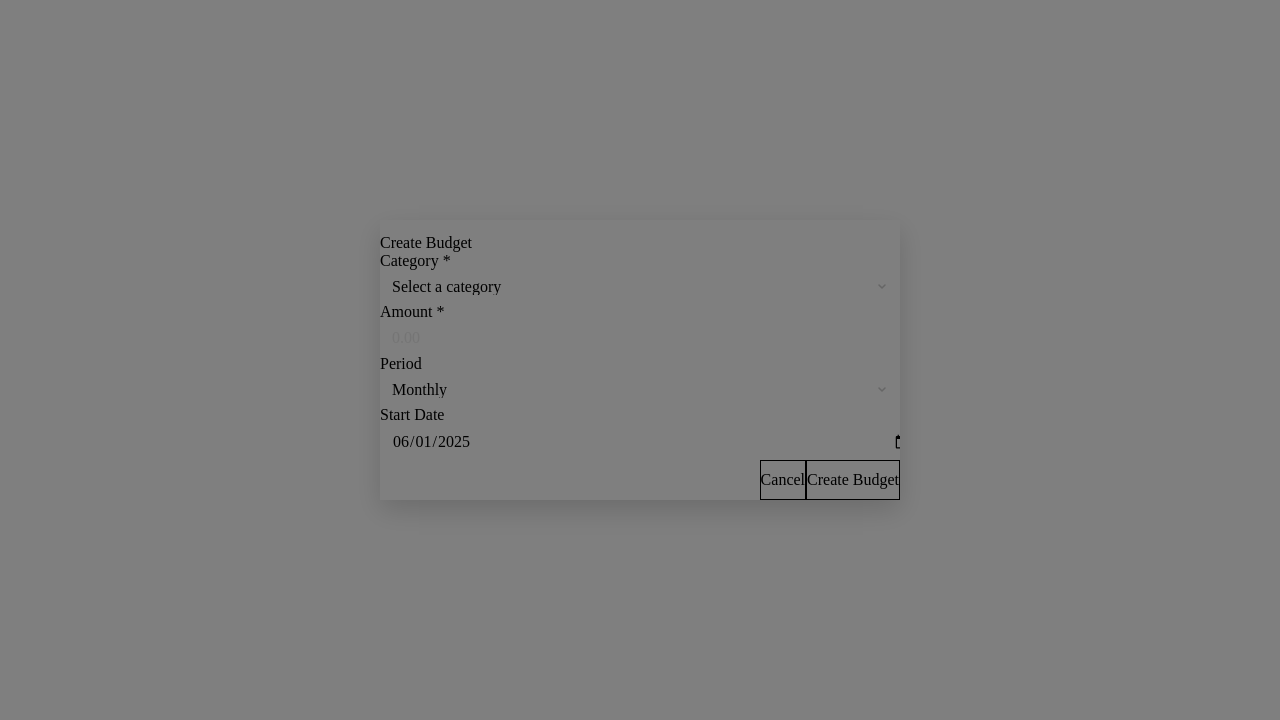
BudgetForm › validates required fields on submit
The width and height of the screenshot is (1280, 720).
Step 1. Click the button "Create Budget" → [853, 480], box [806,460,900,500]
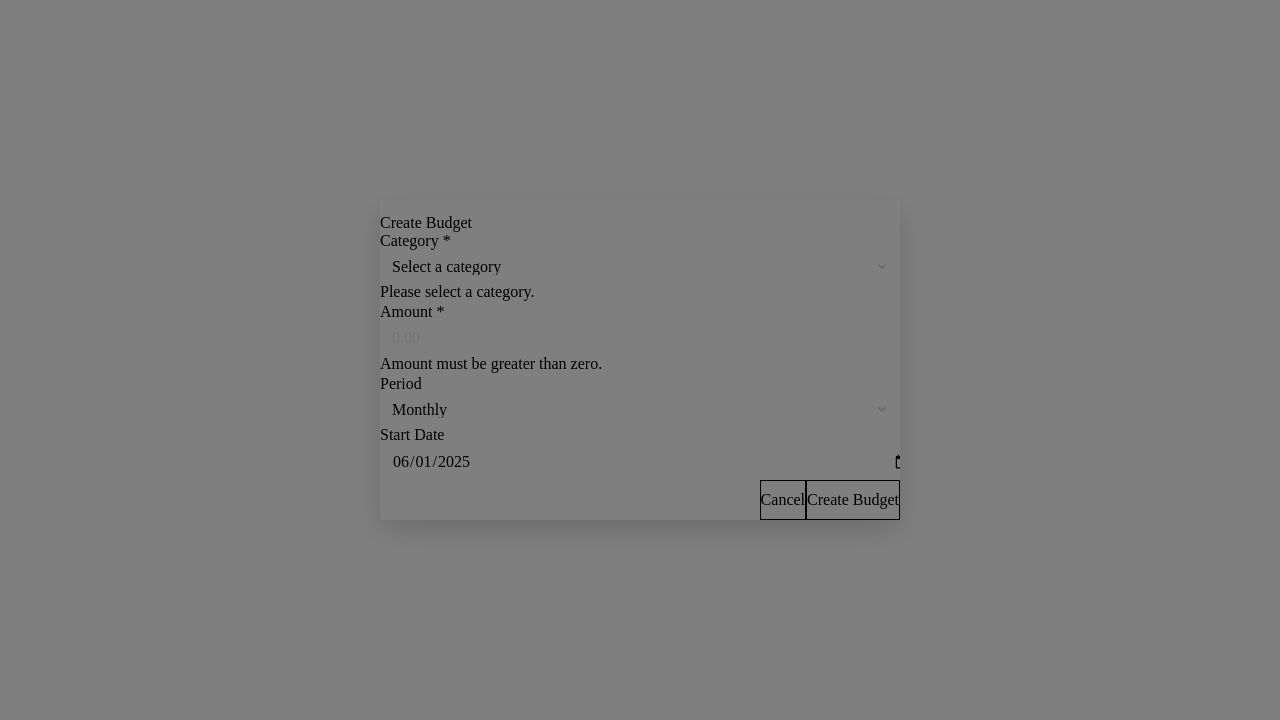
Result: the text "Please select a category." is shown at [380,283,534,300]
Result: the text "Amount must be greater than zero." is shown at [380,355,602,372]
